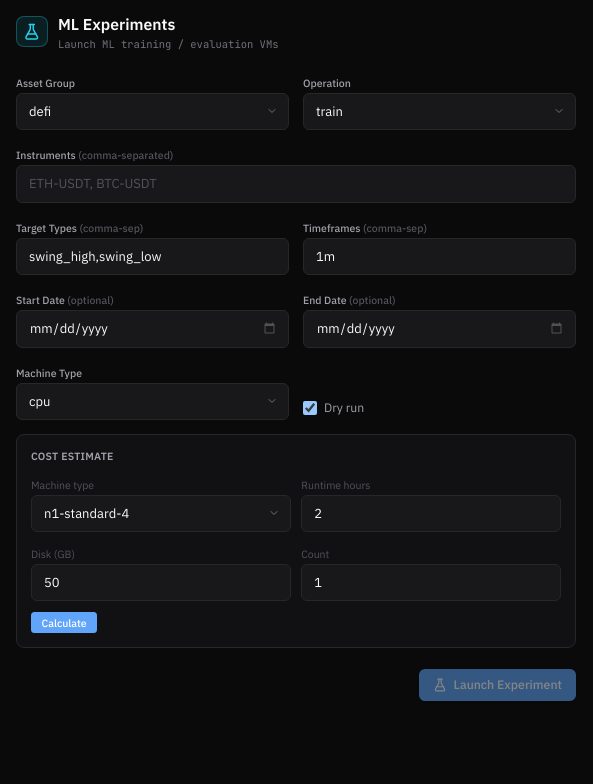
it: MlExperiments › shows error panel on API failure
The image size is (593, 784).
Type "ETH-USDT" into the field with test id "instruments-input". click: x=296, y=184
box: [16,165,576,202]
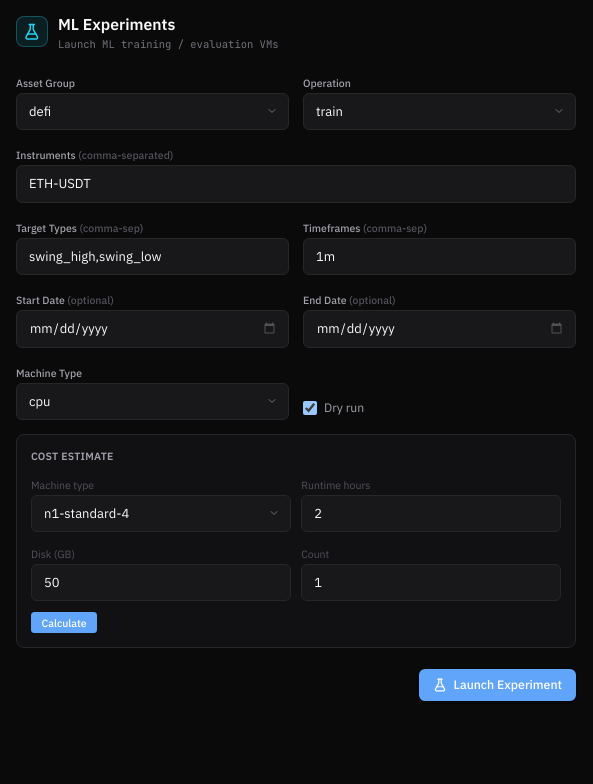
Click the button with test id "launch-button". click: x=497, y=685
box: [419,669,576,700]
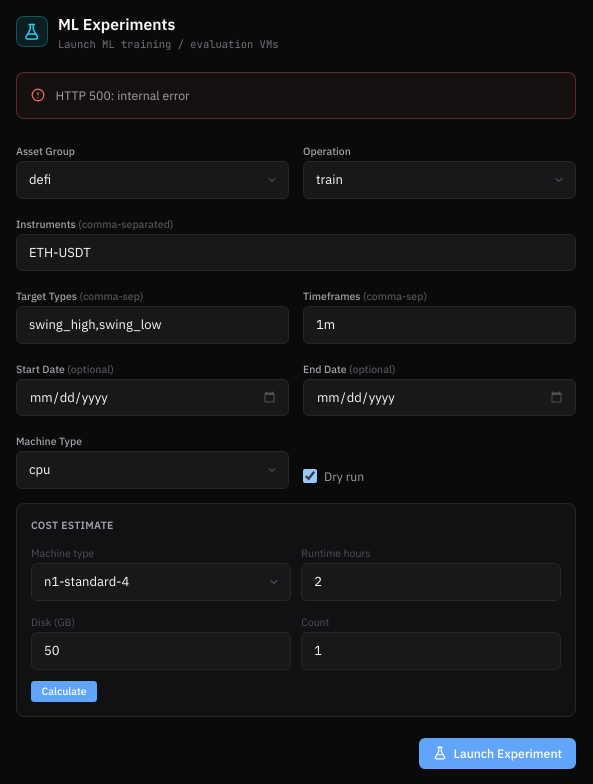
Expected: the element with test id "launch-error" is shown, [16,72,576,119]
Expected: the text "HTTP 500: internal error" is shown, [56,86,190,104]
